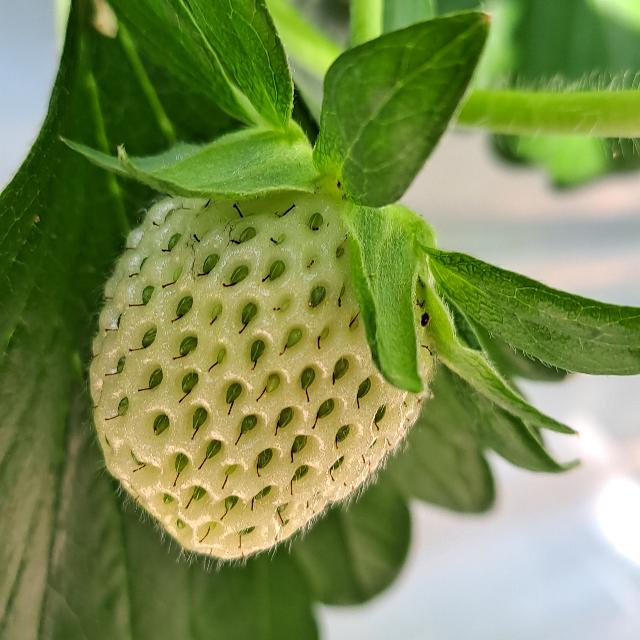Health_25: (90, 195, 432, 559)
